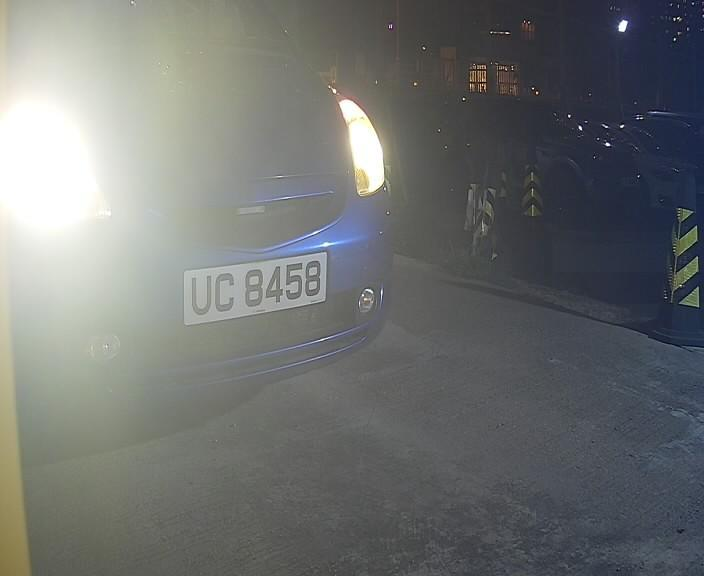Car: (1, 21, 532, 456)
License Plate: (170, 234, 335, 335)
